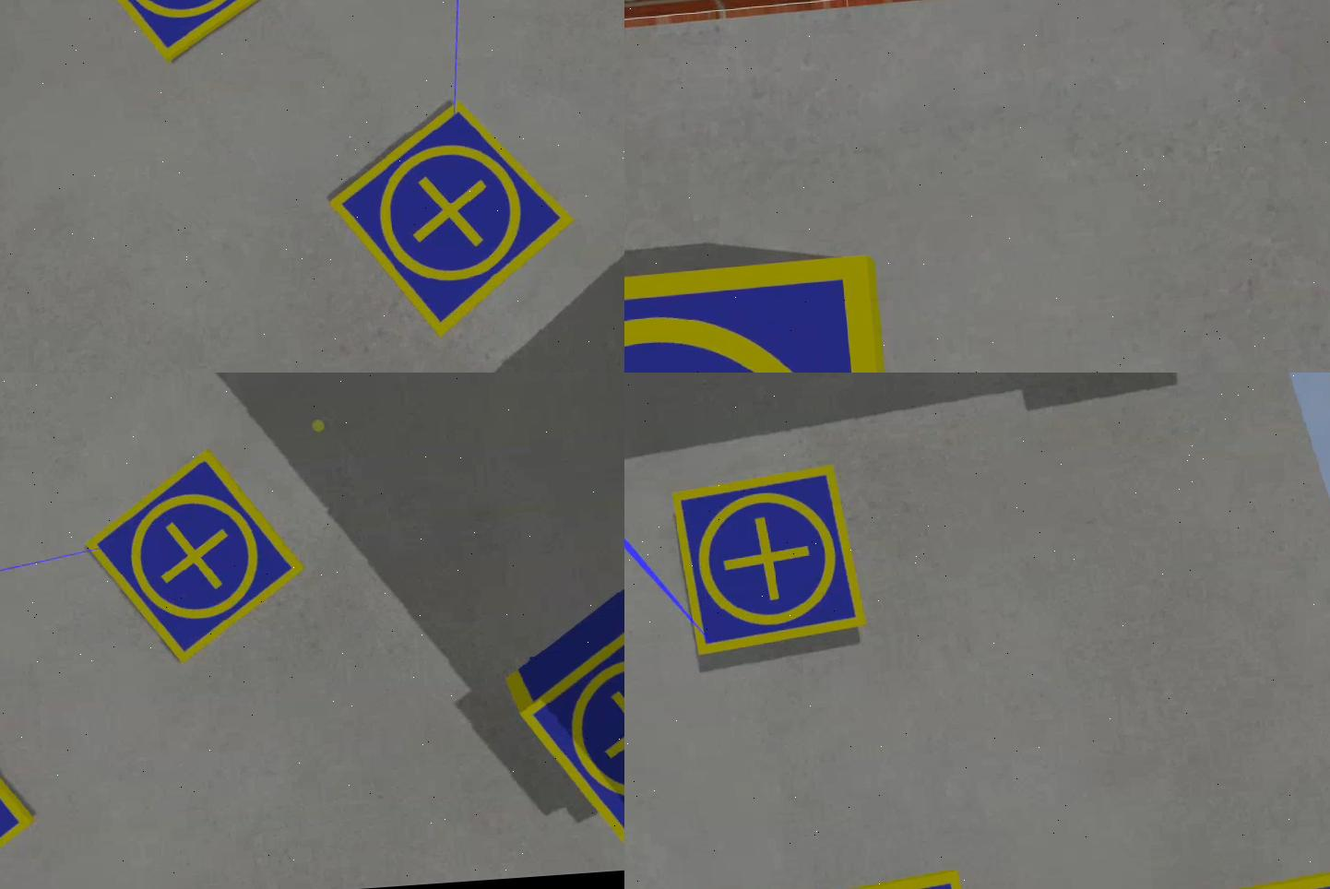small_base: (319, 92, 587, 343), (82, 444, 310, 674), (667, 459, 873, 665), (517, 598, 625, 852), (83, 1, 301, 72), (1, 688, 46, 889)
